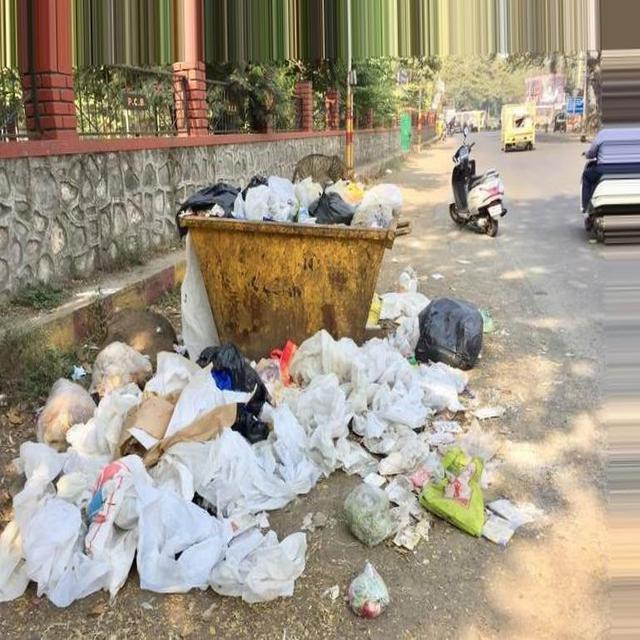garbage: (3, 279, 539, 635), (155, 171, 412, 260)
